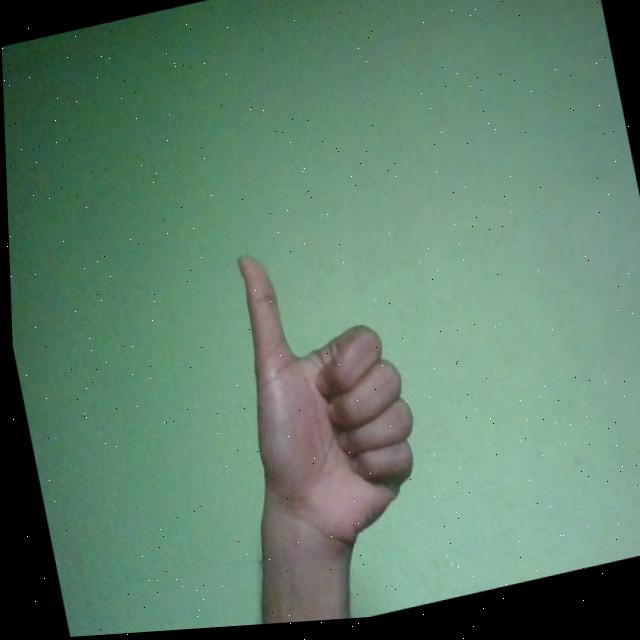Good Job: (217, 227, 432, 575)
